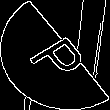P_NE: (19, 25, 91, 85)
